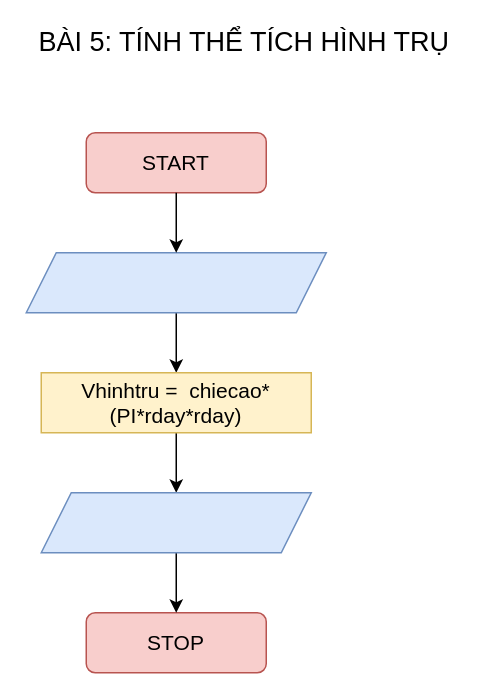
The diagram is 488 pixels wide and 699 high, and some of its shapes have lost their labels. Here are the shapes that lost their labels. From the top down, the centre of each, then its label:
point (175, 282): NHẬP VÀO chieucao, rday
point (175, 522): Vhinhtru
